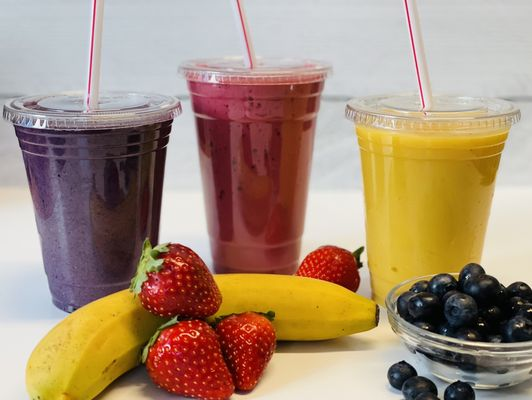pasta: (24, 288, 163, 397), (208, 273, 380, 342)
steak: (294, 245, 362, 293)
sushi: (385, 262, 532, 386)
